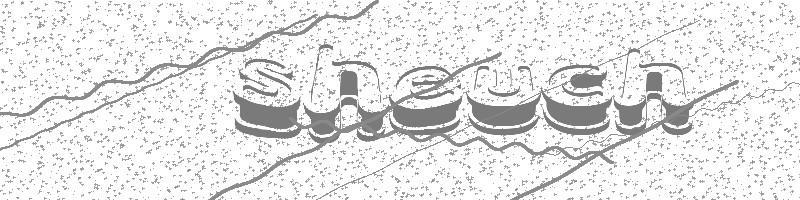c: (544, 60, 614, 140)
e: (387, 59, 468, 138)
h: (304, 38, 388, 146), (617, 42, 698, 137)
s: (229, 46, 303, 139)
u: (466, 58, 543, 134)
